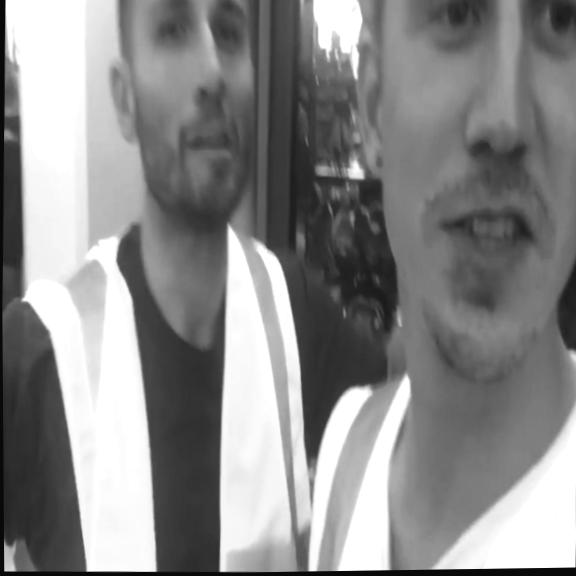safety_vest: (15, 203, 318, 576), (303, 338, 576, 572)
